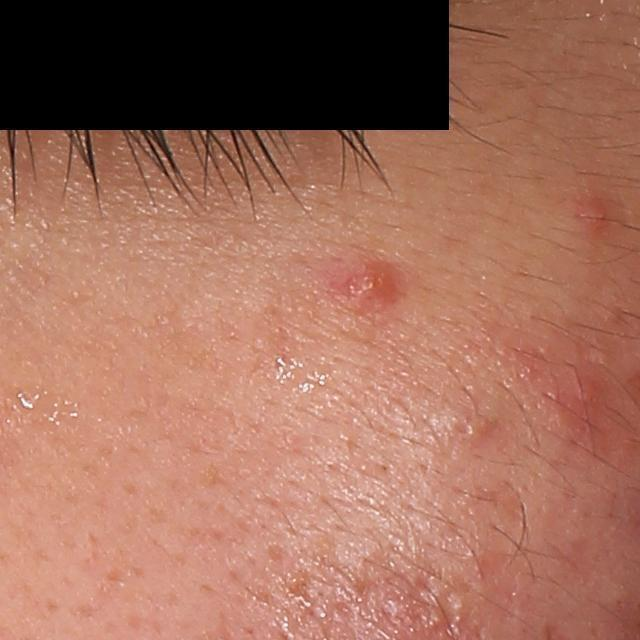papule: (332, 255, 399, 305), (571, 199, 620, 236)
